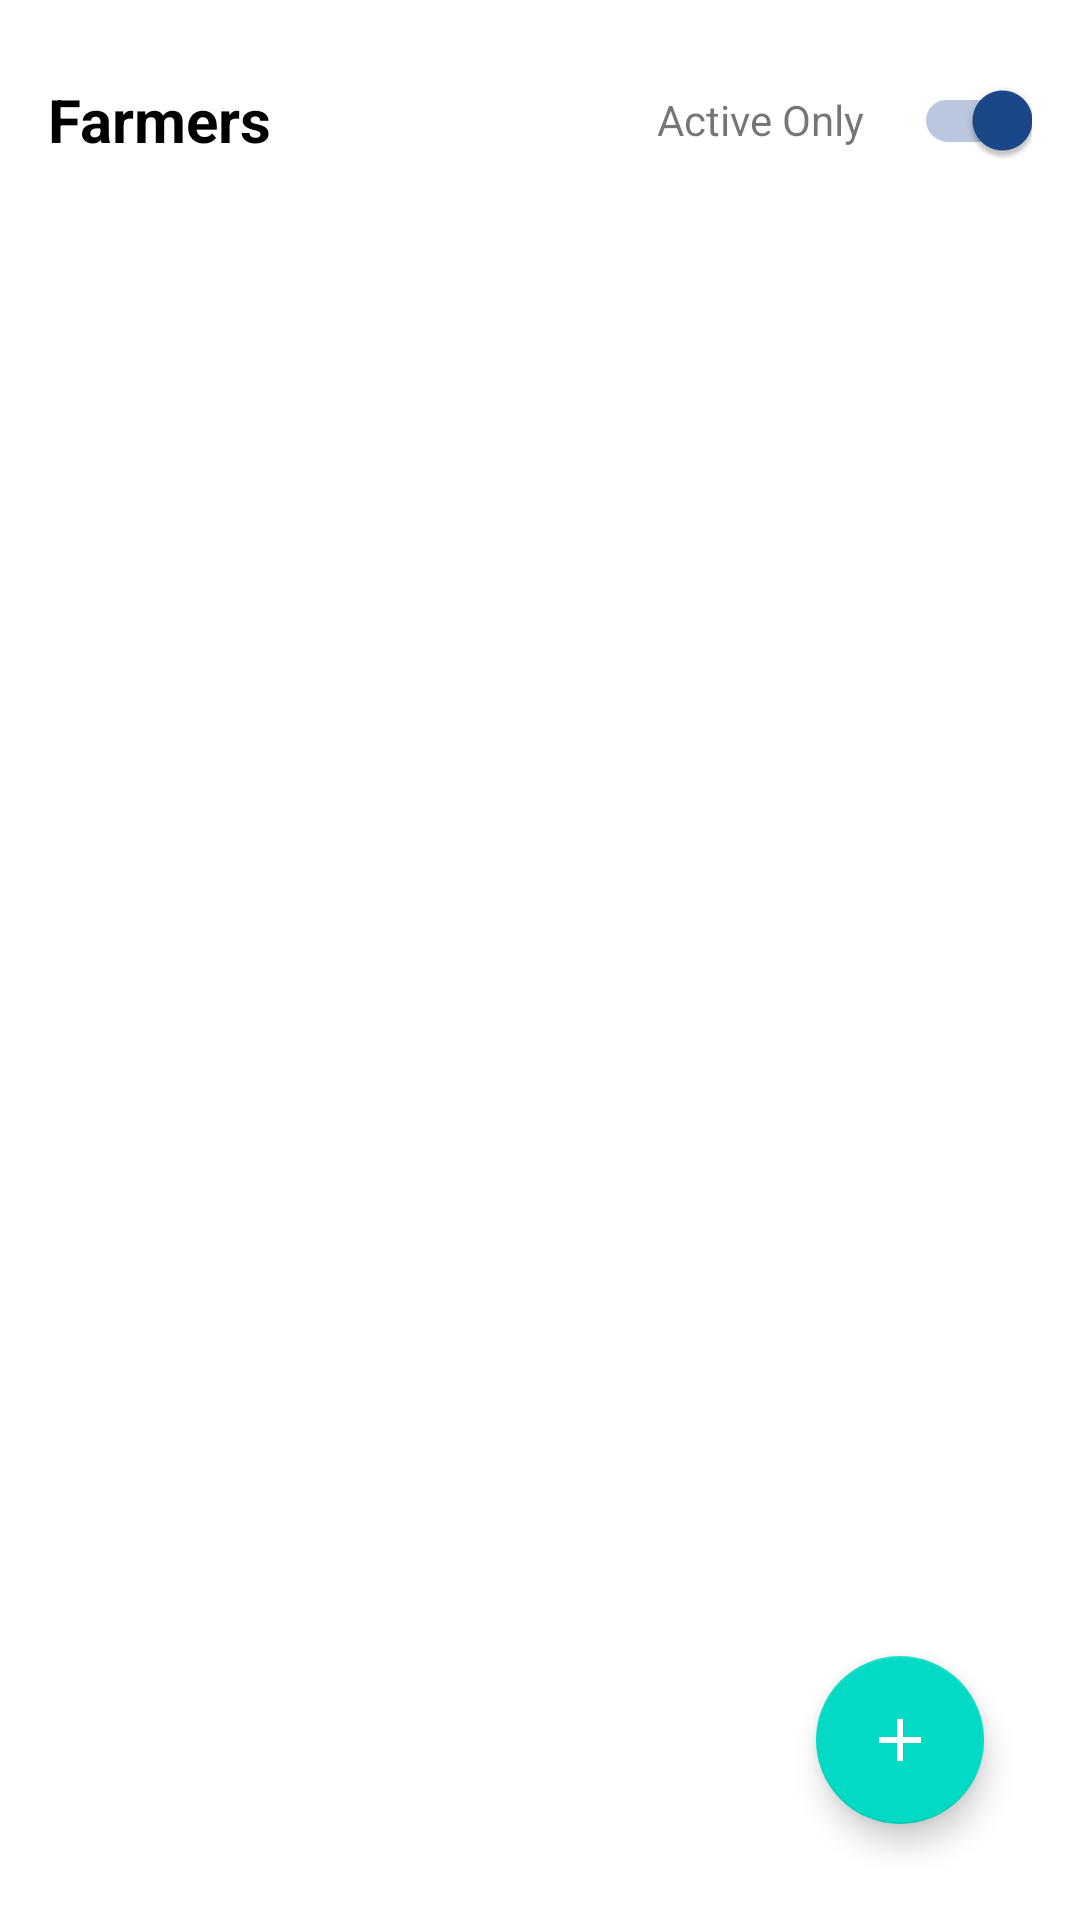

Screen size 1080×1920. Icon name, then its center in pixels as [x,y]:
Add Farmer: [900,1740]
